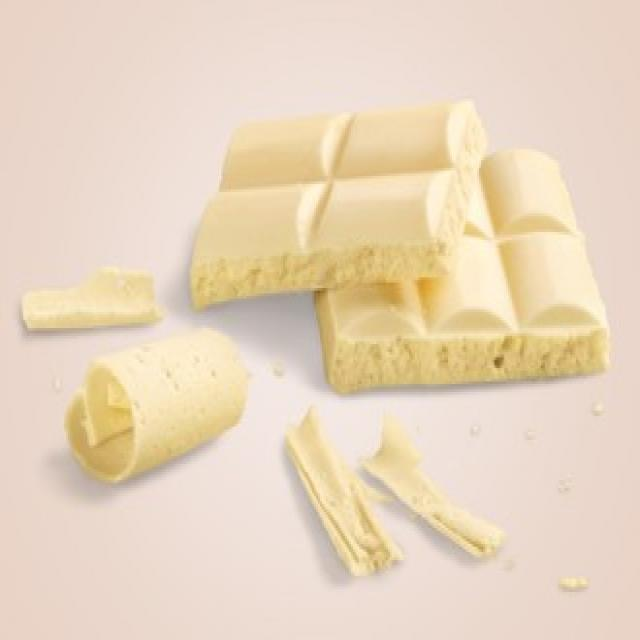Chocolate: (317, 150, 615, 390), (185, 100, 490, 314)
